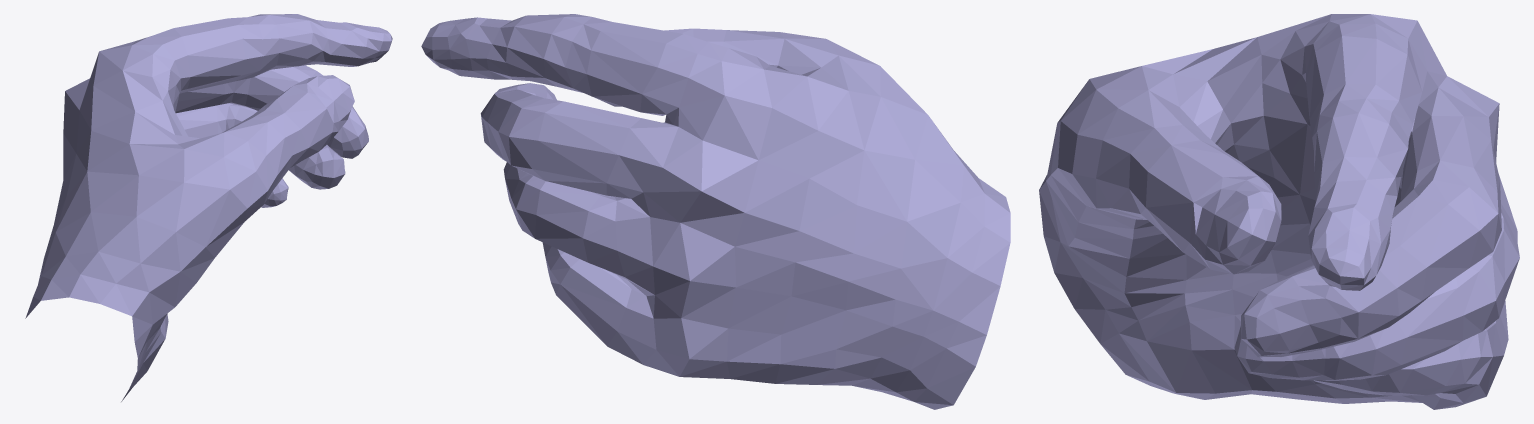
Rendered from frame_0060_source_000060_hand.glb.
The picture shows the model from 3 angles, left to right: view 1: azimuth 30°, elevation 25°; view 2: azimuth 150°, elevation 25°; view 3: azimuth 270°, elevation 25°; orthographic projection. The views are drawn at different scales.
Visible parts, largest first — view 1: world; view 2: world; view 3: world.
Part boxes in pixels (x1,y1,x2,y2): world: [25, 14, 392, 401]; world: [421, 14, 1010, 409]; world: [1039, 14, 1519, 409].
Size of the model in its own units: 0.1467 by 0.1002 by 0.0945.
